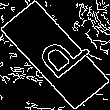P_SW: (22, 24, 88, 86)
